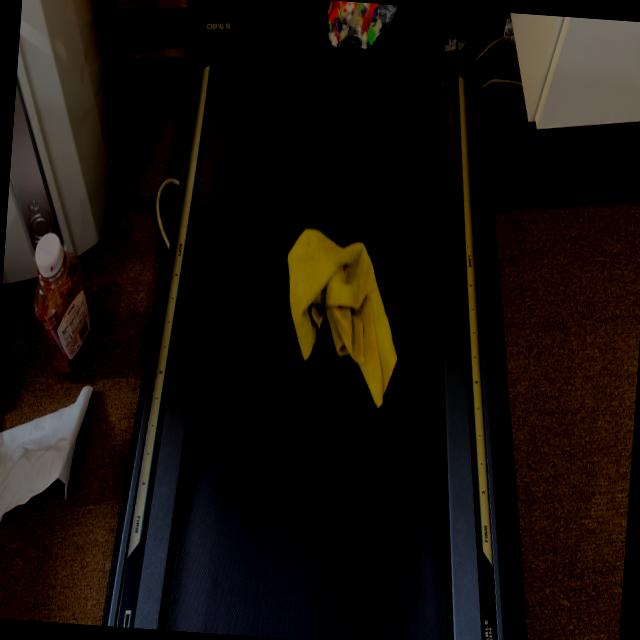Trash: (278, 224, 406, 412), (323, 0, 401, 63)
